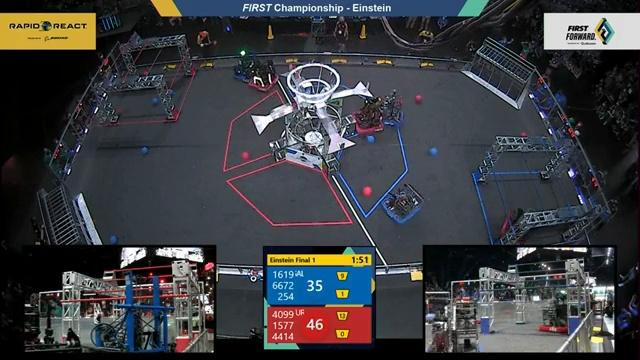robot: (376, 179, 426, 231), (498, 201, 539, 245), (350, 93, 385, 137), (377, 89, 408, 132), (245, 59, 281, 96), (224, 43, 258, 82)
